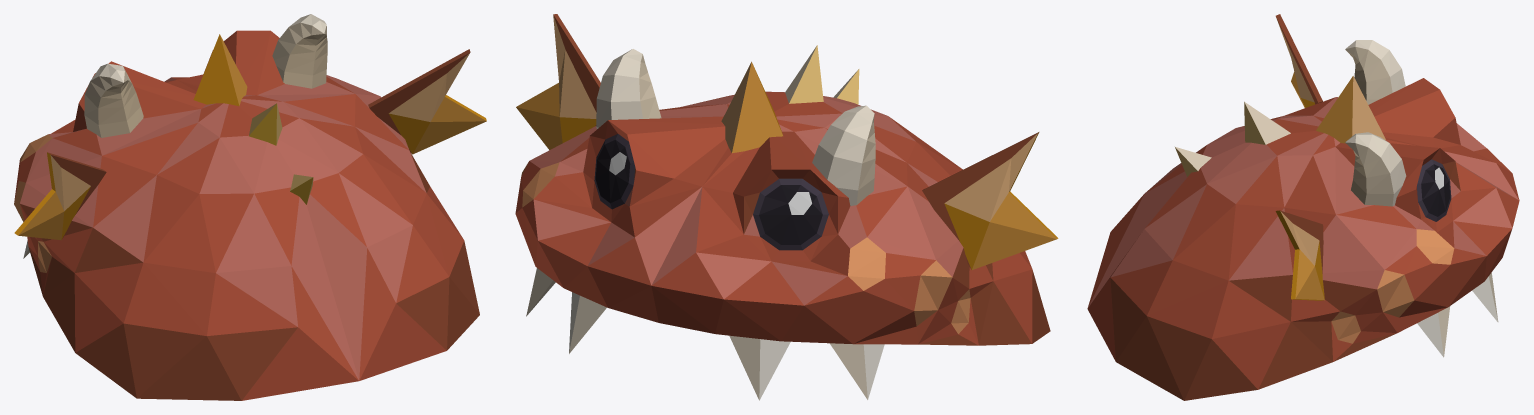
Rendered from Cosmetic_Dragon_Hat_Red.glb.
3 renders of one model, left to right at view 1: azimuth 30°, elevation 25°; view 2: azimuth 150°, elevation 25°; view 3: azimuth 270°, elevation 25°, orthographic. The views are drawn at different scales.
Visible parts, largest first — view 1: Cosmetic_Dragon_Hat_Red; view 2: Cosmetic_Dragon_Hat_Red; view 3: Cosmetic_Dragon_Hat_Red.
Boxes of the visible parts, x1,y1,x2,y2 form: Cosmetic_Dragon_Hat_Red: [14, 14, 486, 400]; Cosmetic_Dragon_Hat_Red: [515, 14, 1058, 400]; Cosmetic_Dragon_Hat_Red: [1087, 14, 1519, 400].
Size of the model in its own units: 1.46 by 0.7666 by 1.22.
